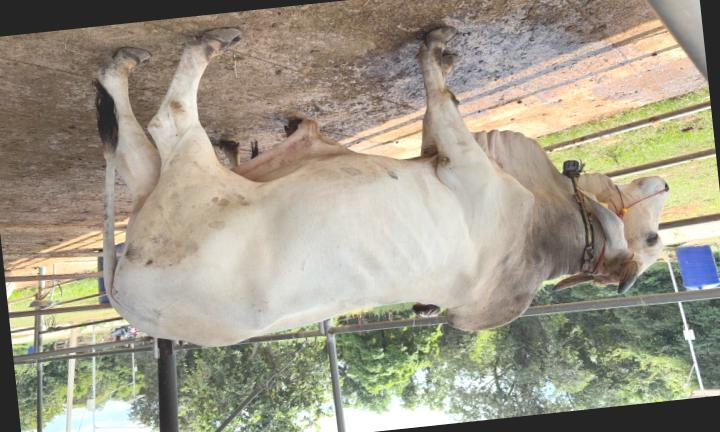Brahman: (93, 28, 668, 346)
